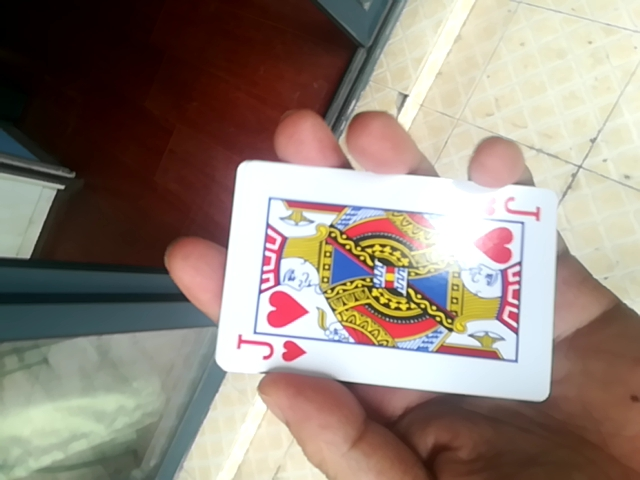hx j: (211, 161, 550, 401)
